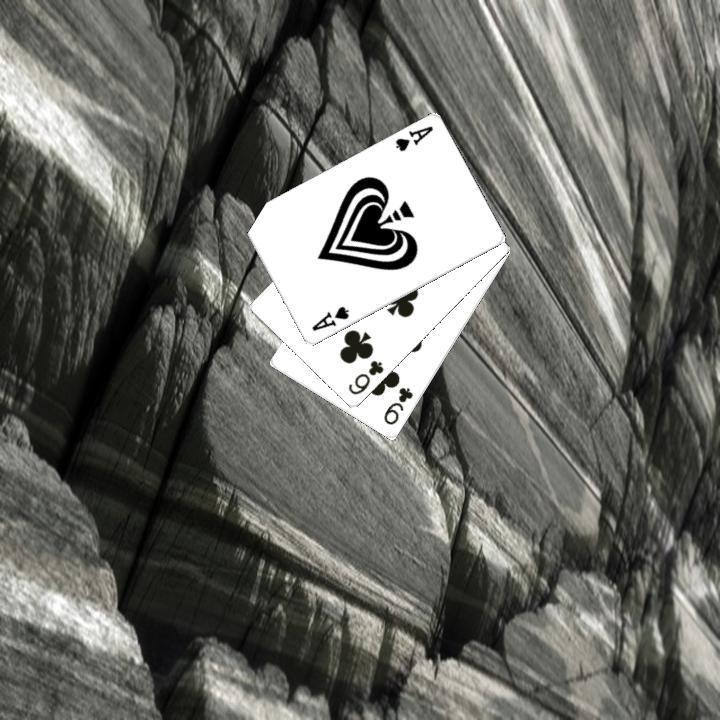6: (344, 356, 386, 397)
9: (379, 383, 415, 428)
A: (391, 122, 435, 154), (307, 302, 351, 333)
